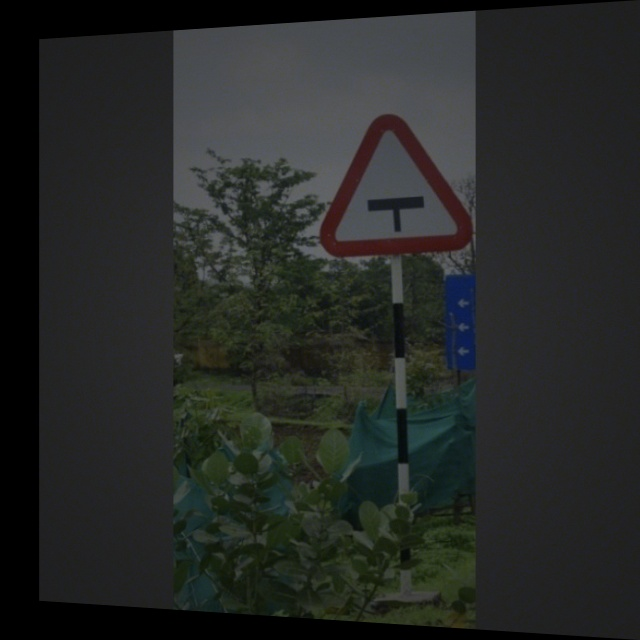T_Intersection: (327, 109, 465, 251)
